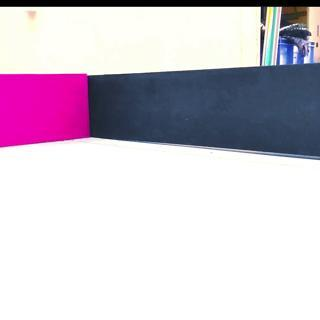xparking: (1, 77, 88, 138)
